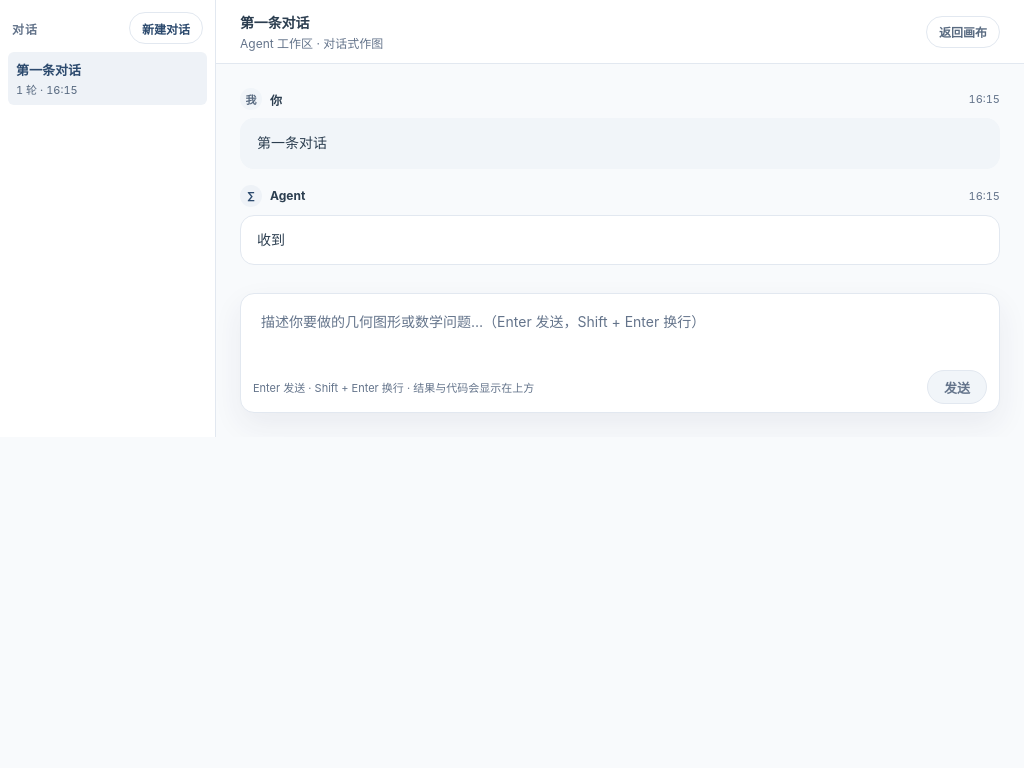
agent workspace › starts a new conversation and switches between transcripts from the sidebar
The width and height of the screenshot is (1024, 768).
Expected: the element named "对话记录" shows "第一条对话", [257,134,327,151]
Click the button "新建对话" at (166, 28), box [129,12,203,44]
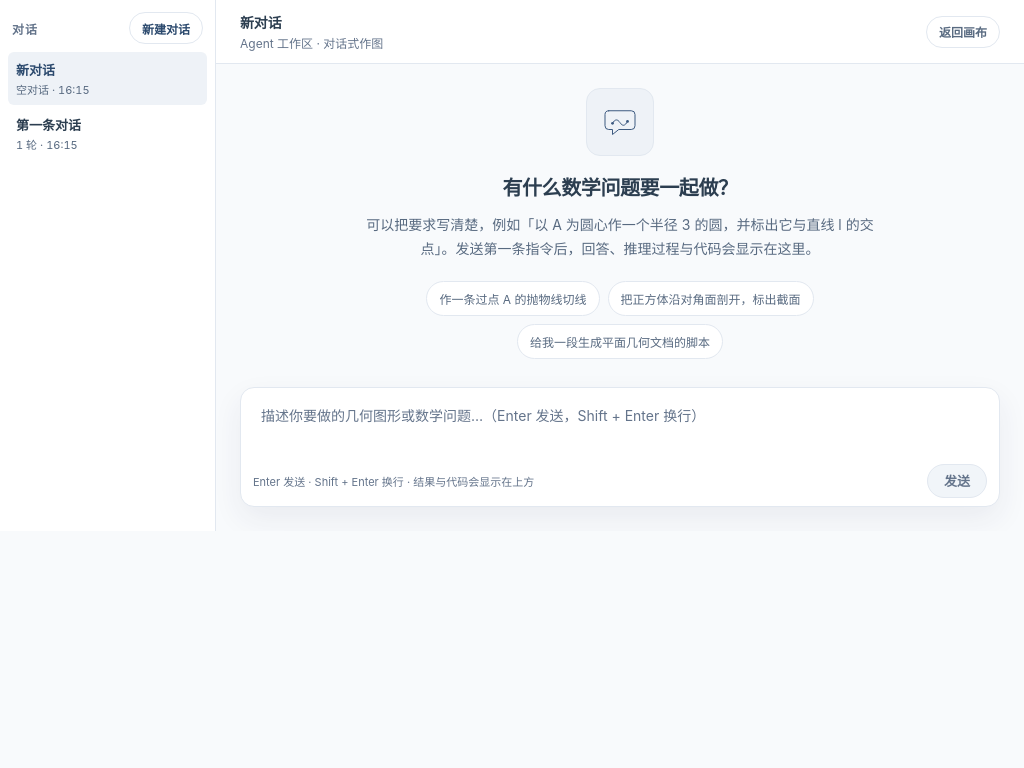
Expected: the button "发送" is disabled, [927,464,987,498]
Click the button "第一条对话 1 轮 · 16:15" at (94, 134), box [8,107,181,160]
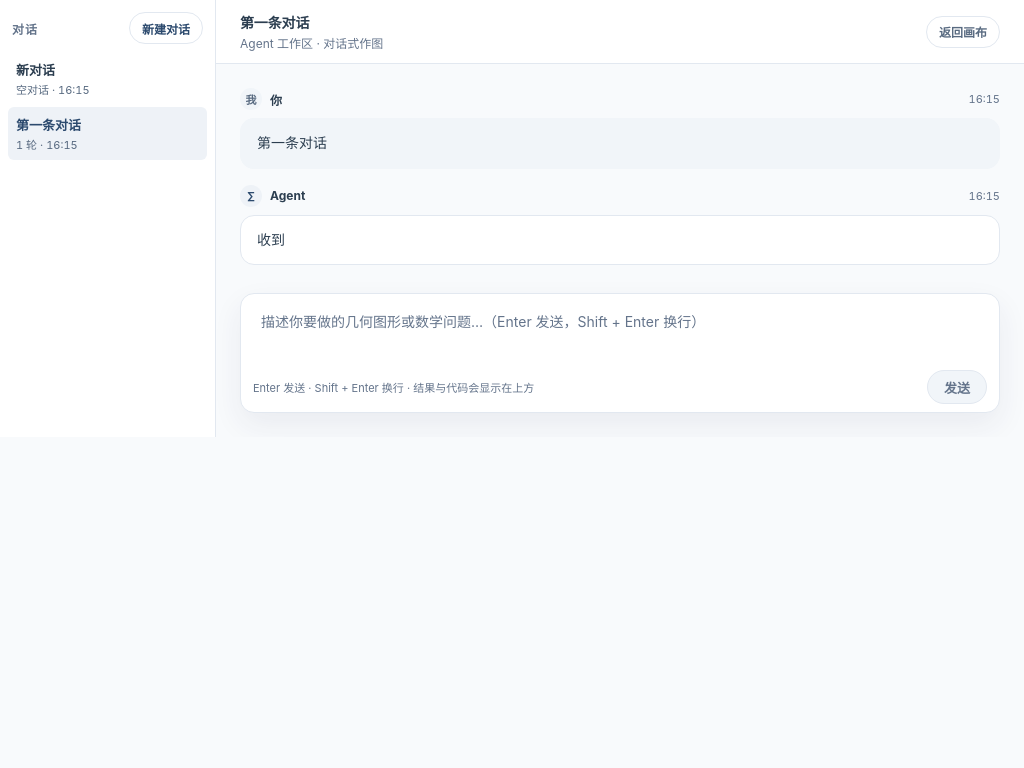
Now the element named "对话记录" shows "第一条对话", box [257,134,327,151]
